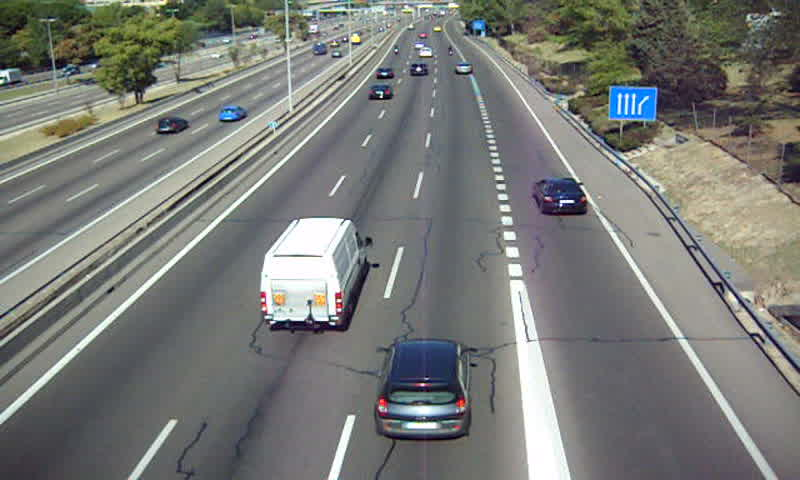car: (376, 338, 470, 440), (534, 178, 587, 214), (368, 84, 392, 102), (374, 65, 397, 80), (408, 62, 428, 77), (453, 61, 473, 74), (417, 47, 436, 58)
van: (261, 218, 372, 330)
